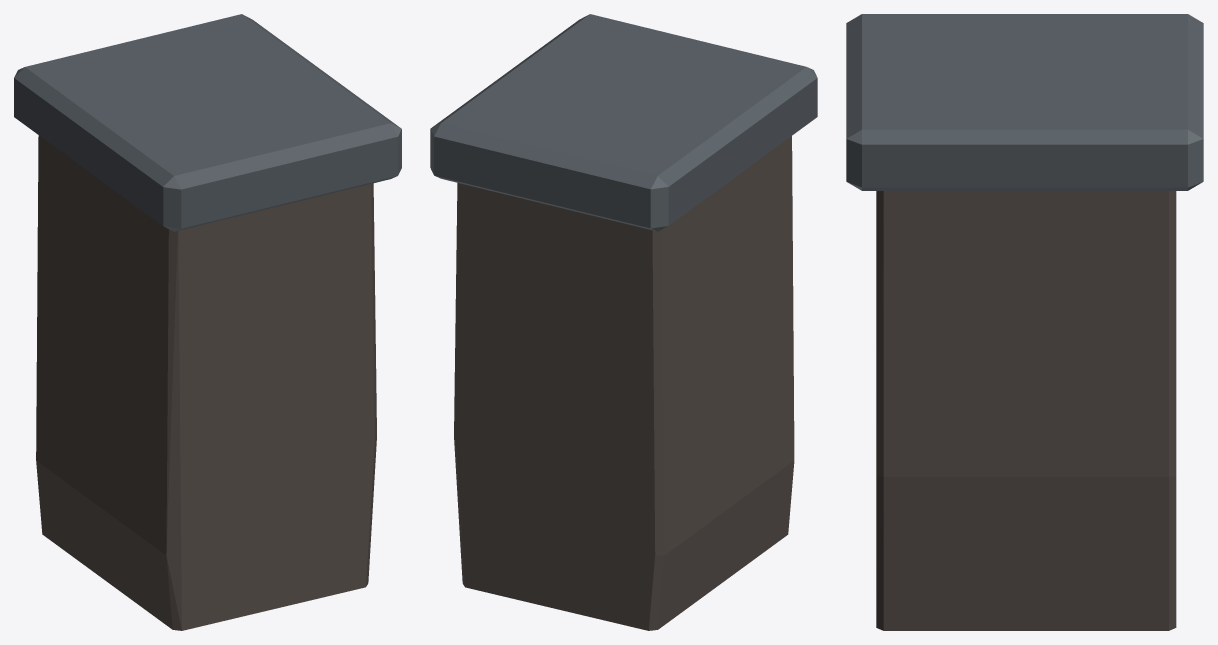
File: MCastle_LargeTurrets_04.FBX
3 views of the same model, side by side, from view 1: azimuth 30°, elevation 25°; view 2: azimuth 150°, elevation 25°; view 3: azimuth 270°, elevation 25° (orthographic). The views are drawn at different scales.
Parts seen in each view (by area): view 1: MCastle_LargeTurrets_04_LOD0; view 2: MCastle_LargeTurrets_04_LOD0; view 3: MCastle_LargeTurrets_04_LOD0.
Part boxes in pixels (x1,y1,x2,y2): MCastle_LargeTurrets_04_LOD0: (14, 14, 401, 630); MCastle_LargeTurrets_04_LOD0: (430, 14, 817, 630); MCastle_LargeTurrets_04_LOD0: (846, 14, 1203, 630).
Size of what is drawn, in the model's own units: 1.61 by 2.99 by 1.91.
